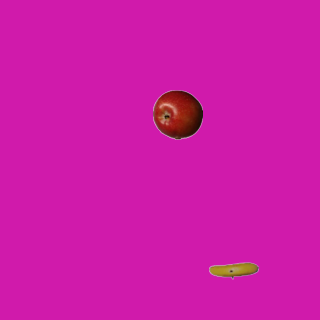Apple Braeburn: (152, 89, 202, 139)
Banana: (208, 245, 258, 295)
